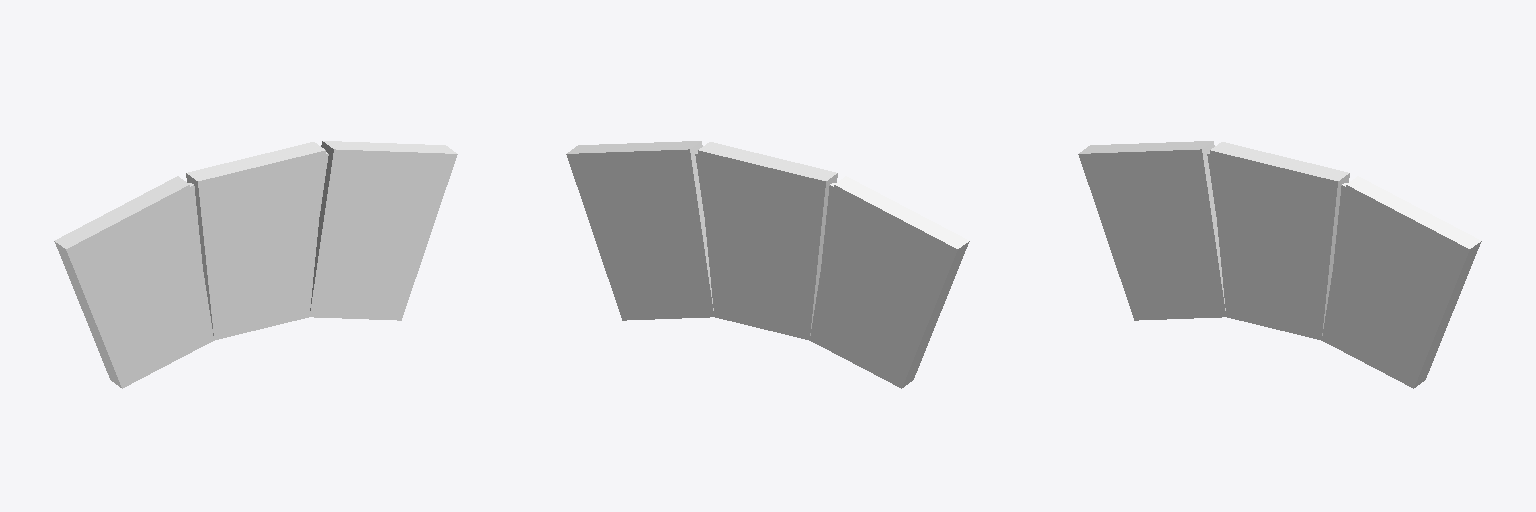
File: generic_facade_round_arch_3_middle_bottom.obj
3 renders of one model, left to right at view 1: azimuth 30°, elevation 25°; view 2: azimuth 150°, elevation 25°; view 3: azimuth 330°, elevation 25°, orthographic.
Visible parts, largest first — view 1: arch_3_middle; view 2: arch_3_middle; view 3: arch_3_middle.
Part boxes in pixels (x1,y1,x2,y2): arch_3_middle: (54,141,457,388); arch_3_middle: (566,141,969,388); arch_3_middle: (1078,141,1481,388).
Size of the model in its own units: 1.61 by 0.7407 by 0.0844.